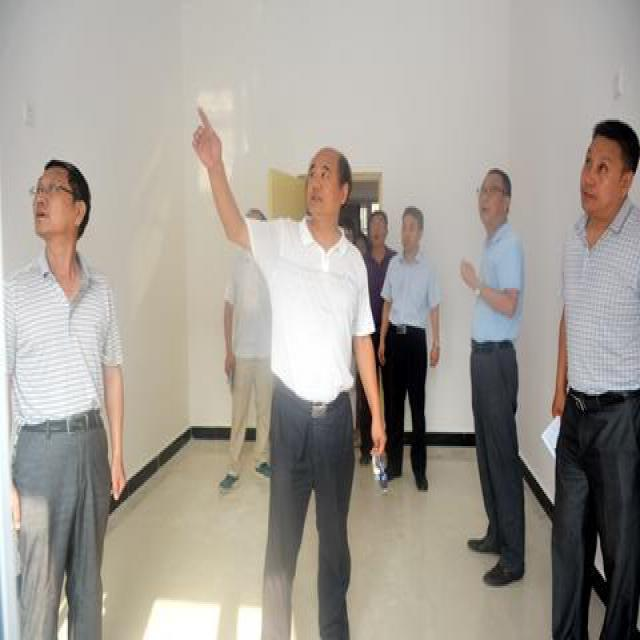head: (574, 109, 637, 229), (28, 153, 94, 253), (301, 139, 356, 229), (475, 161, 515, 227), (396, 201, 426, 257), (368, 203, 392, 251)
person: (227, 130, 392, 635), (10, 151, 144, 637), (535, 107, 640, 640), (444, 157, 548, 602), (387, 201, 445, 510)
